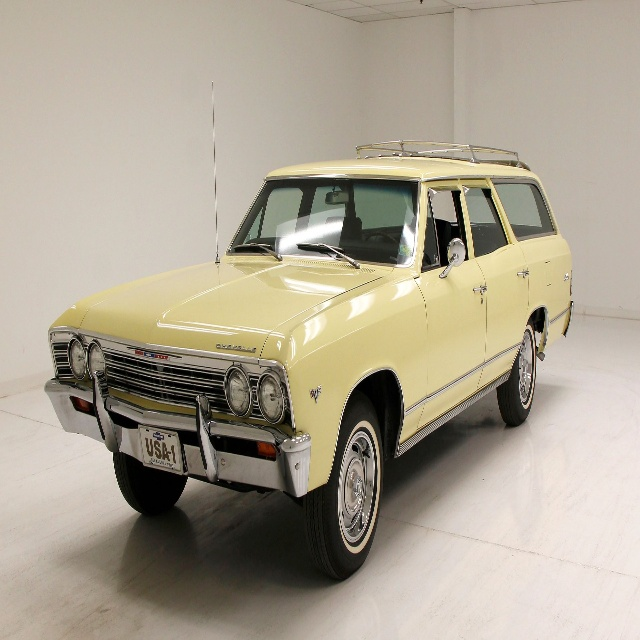Car: (44, 141, 573, 581)
